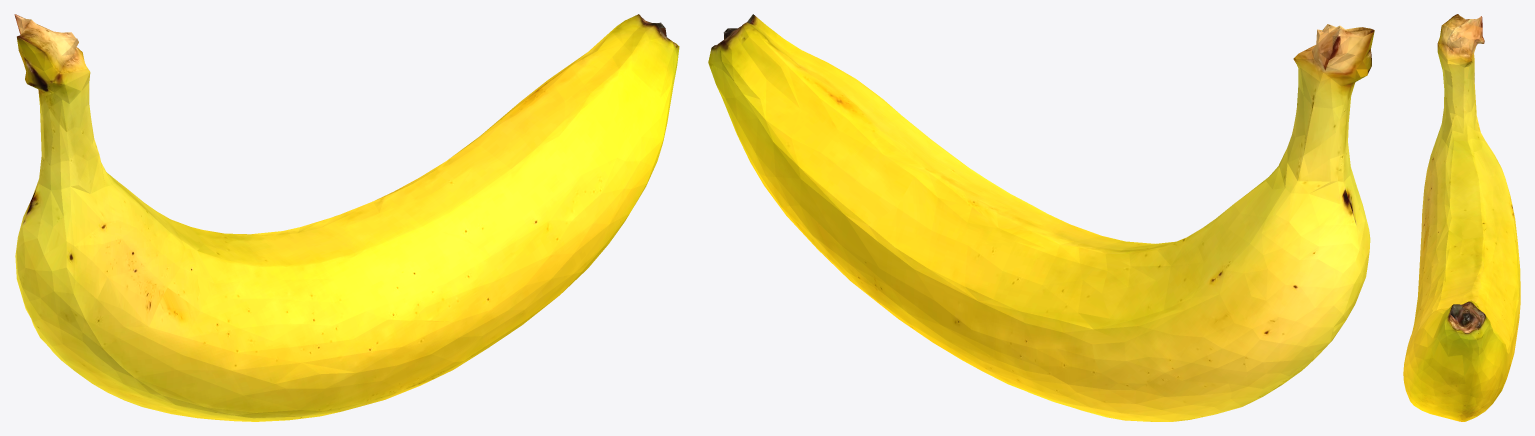
File: banana-transformed.glb
3 renders of one model, left to right at view 1: azimuth 30°, elevation 25°; view 2: azimuth 150°, elevation 25°; view 3: azimuth 270°, elevation 25°, orthographic. The views are drawn at different scales.
Visible parts, largest first — view 1: banana; view 2: banana; view 3: banana.
Boxes of the visible parts, x1,y1,x2,y2 form: banana: (14, 14, 679, 421); banana: (708, 14, 1374, 421); banana: (1403, 14, 1520, 421).
Size of the model in its own units: 6.79 by 4.44 by 1.62.
Materials: 1 (1 with a texture image).
